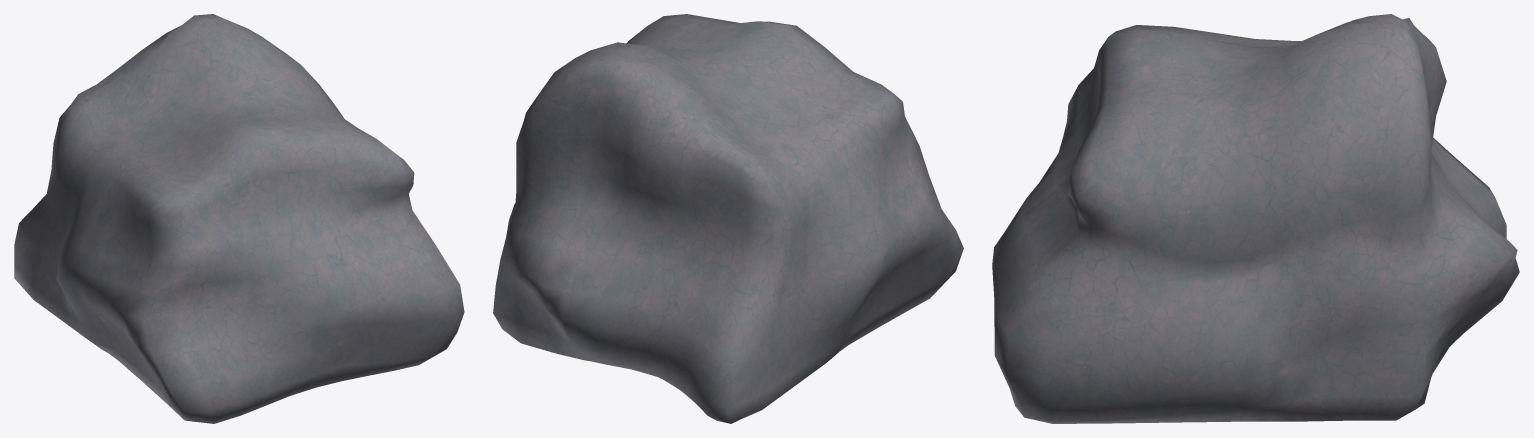
Rendered from Rock_1.fbx.
The picture shows the model from 3 angles, left to right: view 1: azimuth 30°, elevation 25°; view 2: azimuth 150°, elevation 25°; view 3: azimuth 270°, elevation 25°; orthographic projection. The views are drawn at different scales.
Parts seen in each view (by area): view 1: Rock_1; view 2: Rock_1; view 3: Rock_1.
Boxes of the visible parts, x1=… form: Rock_1: x1=14, y1=14, x2=464, y2=423; Rock_1: x1=493, y1=14, x2=963, y2=423; Rock_1: x1=992, y1=14, x2=1519, y2=423.
Size of the model in its own units: 63.19 by 52.69 by 70.52.
